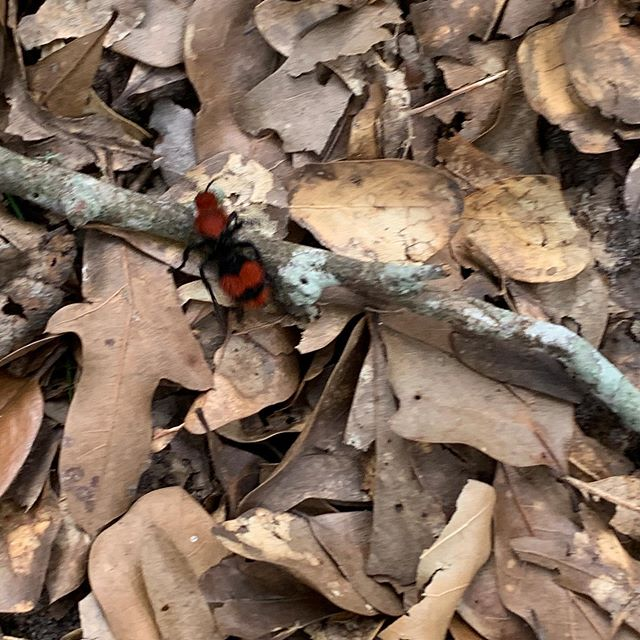insect: (166, 191, 281, 330)
vegetation: (5, 9, 630, 631)
